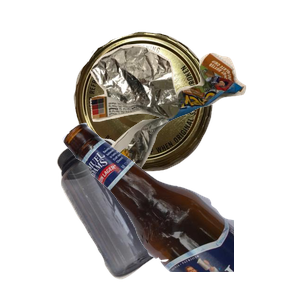glass: (60, 120, 300, 300)
metal: (71, 29, 276, 193)
plastic: (54, 136, 209, 300)
trash: (88, 42, 300, 219)
